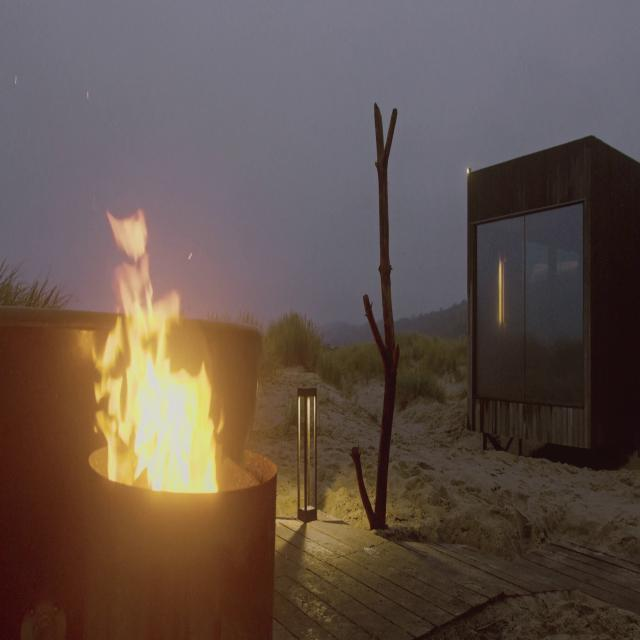Fire: (86, 185, 220, 508)
